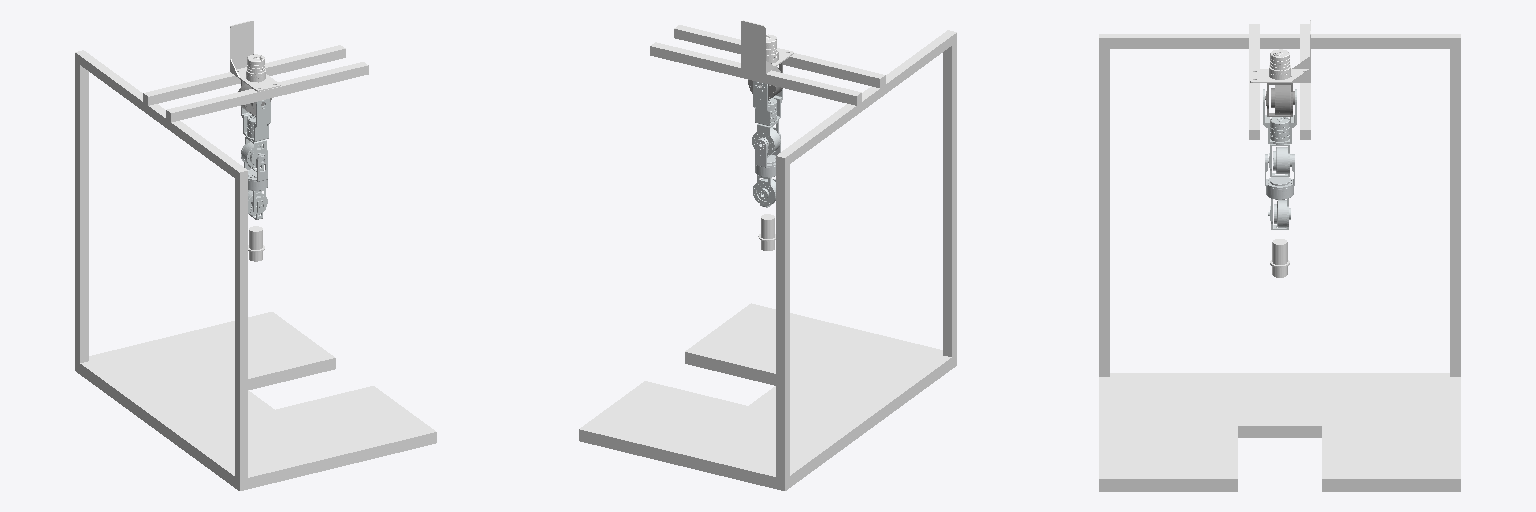
URDF robot description (add_gas_robot_description2):
<?xml version="1.0" encoding="utf-8"?>
<!-- This URDF was automatically created by SolidWorks to URDF Exporter! Originally created by [author] ([email redacted]) 
     Commit Version: 1.5.1-0-g916b5db  Build Version: 1.5.7152.31018
     For more information, please see http://wiki.ros.org/sw_urdf_exporter -->
<robot
  name="add_gas_robot_description2">
  <link
    name="base_link">
    <inertial>
      <origin
        xyz="-0.066598 0.0016808 0.17833"
        rpy="0 0 0" />
      <mass
        value="63.094" />
      <inertia
        ixx="20.408"
        ixy="-1.8514E-07"
        ixz="1.7499"
        iyy="14.797"
        iyz="-0.0042417"
        izz="14.719" />
    </inertial>
    <visual>
      <origin
        xyz="0 0 0"
        rpy="0 0 0" />
      <geometry>
        <mesh
          filename="package://add_gas_robot_description2/meshes/base_link.STL" />
      </geometry>
      <material
        name="">
        <color
          rgba="1 1 1 1" />
      </material>
    </visual>
    <collision>
      <origin
        xyz="0 0 0"
        rpy="0 0 0" />
      <geometry>
        <mesh
          filename="package://add_gas_robot_description2/meshes/base_link.STL" />
      </geometry>
    </collision>
  </link>
  <link
    name="link1">
    <inertial>
      <origin
        xyz="-0.00012557 0.0053091 -0.071768"
        rpy="0 0 0" />
      <mass
        value="0.64188" />
      <inertia
        ixx="0.0017662"
        ixy="4.5469E-07"
        ixz="-3.0475E-06"
        iyy="0.0016005"
        iyz="2.6064E-06"
        izz="0.0010995" />
    </inertial>
    <visual>
      <origin
        xyz="0 0 0"
        rpy="0 0 0" />
      <geometry>
        <mesh
          filename="package://add_gas_robot_description2/meshes/link1.STL" />
      </geometry>
      <material
        name="">
        <color
          rgba="0.6902 0.6902 0.6902 1" />
      </material>
    </visual>
    <collision>
      <origin
        xyz="0 0 0"
        rpy="0 0 0" />
      <geometry>
        <mesh
          filename="package://add_gas_robot_description2/meshes/link1.STL" />
      </geometry>
    </collision>
  </link>
  <joint
    name="joint1"
    type="revolute">
    <origin
      xyz="0 0 1.385"
      rpy="0 0 0" />
    <parent
      link="base_link" />
    <child
      link="link1" />
    <axis
      xyz="0 0 1" />
    <limit
      lower="-2.094"
      upper="2.094"
      effort="0"
      velocity="0" />
  </joint>
  <link
    name="link2">
    <inertial>
      <origin
        xyz="3.0473E-05 0.097541 0.00020543"
        rpy="0 0 0" />
      <mass
        value="0.86164" />
      <inertia
        ixx="0.003276"
        ixy="1.0596E-06"
        ixz="-3.0719E-07"
        iyy="0.0016779"
        iyz="1.646E-05"
        izz="0.0021946" />
    </inertial>
    <visual>
      <origin
        xyz="0 0 0"
        rpy="0 0 0" />
      <geometry>
        <mesh
          filename="package://add_gas_robot_description2/meshes/link2.STL" />
      </geometry>
      <material
        name="">
        <color
          rgba="0.89804 0.92157 0.92941 1" />
      </material>
    </visual>
    <collision>
      <origin
        xyz="0 0 0"
        rpy="0 0 0" />
      <geometry>
        <mesh
          filename="package://add_gas_robot_description2/meshes/link2.STL" />
      </geometry>
    </collision>
  </link>
  <joint
    name="joint2"
    type="revolute">
    <origin
      xyz="0 0 -0.09"
      rpy="-1.5708 0 0" />
    <parent
      link="link1" />
    <child
      link="link2" />
    <axis
      xyz="0 0 1" />
    <limit
      lower="-1.5708"
      upper="1.5708"
      effort="0"
      velocity="0" />
  </joint>
  <link
    name="link3">
    <inertial>
      <origin
        xyz="0.0002201 -0.0066866 0.23442"
        rpy="0 0 0" />
      <mass
        value="0.37756" />
      <inertia
        ixx="0.00074353"
        ixy="6.7209E-07"
        ixz="-1.0397E-06"
        iyy="0.00067747"
        iyz="4.1779E-06"
        izz="0.00041213" />
    </inertial>
    <visual>
      <origin
        xyz="0 0 0"
        rpy="0 0 0" />
      <geometry>
        <mesh
          filename="package://add_gas_robot_description2/meshes/link3.STL" />
      </geometry>
      <material
        name="">
        <color
          rgba="0.89804 0.92157 0.92941 1" />
      </material>
    </visual>
    <collision>
      <origin
        xyz="0 0 0"
        rpy="0 0 0" />
      <geometry>
        <mesh
          filename="package://add_gas_robot_description2/meshes/link3.STL" />
      </geometry>
    </collision>
  </link>
  <joint
    name="joint3"
    type="revolute">
    <origin
      xyz="0 0 0"
      rpy="-1.5708 0 0" />
    <parent
      link="link2" />
    <child
      link="link3" />
    <axis
      xyz="0 0 1" />
    <limit
      lower="-2.094"
      upper="2.094"
      effort="0"
      velocity="0" />
  </joint>
  <link
    name="link4">
    <inertial>
      <origin
        xyz="-0.00021687 0.060002 0.0035112"
        rpy="0 0 0" />
      <mass
        value="0.36887" />
      <inertia
        ixx="0.0010416"
        ixy="6.4702E-07"
        ixz="1.3187E-06"
        iyy="0.00080396"
        iyz="2.4281E-05"
        izz="0.00055378" />
    </inertial>
    <visual>
      <origin
        xyz="0 0 0"
        rpy="0 0 0" />
      <geometry>
        <mesh
          filename="package://add_gas_robot_description2/meshes/link4.STL" />
      </geometry>
      <material
        name="">
        <color
          rgba="0.89804 0.91765 0.92941 1" />
      </material>
    </visual>
    <collision>
      <origin
        xyz="0 0 0"
        rpy="0 0 0" />
      <geometry>
        <mesh
          filename="package://add_gas_robot_description2/meshes/link4.STL" />
      </geometry>
    </collision>
  </link>
  <joint
    name="joint4"
    type="revolute">
    <origin
      xyz="0 0 0.247"
      rpy="1.5708 0 0" />
    <parent
      link="link3" />
    <child
      link="link4" />
    <axis
      xyz="0 0 1" />
    <limit
      lower="-1.5708"
      upper="1.5708"
      effort="0"
      velocity="0" />
  </joint>
  <link
    name="link5">
    <inertial>
      <origin
        xyz="-3.7954E-05 -0.0040059 0.20019"
        rpy="0 0 0" />
      <mass
        value="0.3279" />
      <inertia
        ixx="0.00059271"
        ixy="-4.4959E-07"
        ixz="-8.4267E-07"
        iyy="0.00061057"
        iyz="9.2308E-06"
        izz="0.00027776" />
    </inertial>
    <visual>
      <origin
        xyz="0 0 0"
        rpy="0 0 0" />
      <geometry>
        <mesh
          filename="package://add_gas_robot_description2/meshes/link5.STL" />
      </geometry>
      <material
        name="">
        <color
          rgba="0.89804 0.92157 0.92941 1" />
      </material>
    </visual>
    <collision>
      <origin
        xyz="0 0 0"
        rpy="0 0 0" />
      <geometry>
        <mesh
          filename="package://add_gas_robot_description2/meshes/link5.STL" />
      </geometry>
    </collision>
  </link>
  <joint
    name="joint5"
    type="revolute">
    <origin
      xyz="0 0 0"
      rpy="-1.5708 0 0" />
    <parent
      link="link4" />
    <child
      link="link5" />
    <axis
      xyz="0 0 1" />
    <limit
      lower="-2.094"
      upper="2.094"
      effort="0"
      velocity="0" />
  </joint>
  <link
    name="link6">
    <inertial>
      <origin
        xyz="-3.4285E-06 0.055699 0.003099"
        rpy="0 0 0" />
      <mass
        value="0.15932" />
      <inertia
        ixx="0.00027644"
        ixy="2.2114E-07"
        ixz="-1.2983E-07"
        iyy="0.00022849"
        iyz="5.9163E-07"
        izz="0.00015048" />
    </inertial>
    <visual>
      <origin
        xyz="0 0 0"
        rpy="0 0 0" />
      <geometry>
        <mesh
          filename="package://add_gas_robot_description2/meshes/link6.STL" />
      </geometry>
      <material
        name="">
        <color
          rgba="0.89804 0.91765 0.92941 1" />
      </material>
    </visual>
    <collision>
      <origin
        xyz="0 0 0"
        rpy="0 0 0" />
      <geometry>
        <mesh
          filename="package://add_gas_robot_description2/meshes/link6.STL" />
      </geometry>
    </collision>
  </link>
  <joint
    name="joint6"
    type="revolute">
    <origin
      xyz="0 0 0.2105"
      rpy="1.5708 0 0" />
    <parent
      link="link5" />
    <child
      link="link6" />
    <axis
      xyz="0 0 1" />
    <limit
      lower="-1.5708"
      upper="1.5708"
      effort="0"
      velocity="0" />
  </joint>
  <link
    name="link7">
    <inertial>
      <origin
        xyz="1.401E-17 -2.0592E-17 0.15901"
        rpy="0 0 0" />
      <mass
        value="0.21828" />
      <inertia
        ixx="0.00023315"
        ixy="2.9112E-21"
        ixz="1.3358E-20"
        iyy="0.00023315"
        iyz="-6.9303E-21"
        izz="8.9928E-05" />
    </inertial>
    <visual>
      <origin
        xyz="0 0 0"
        rpy="0 0 0" />
      <geometry>
        <mesh
          filename="package://add_gas_robot_description2/meshes/link7.STL" />
      </geometry>
      <material
        name="">
        <color
          rgba="1 1 1 1" />
      </material>
    </visual>
    <collision>
      <origin
        xyz="0 0 0"
        rpy="0 0 0" />
      <geometry>
        <mesh
          filename="package://add_gas_robot_description2/meshes/link7.STL" />
      </geometry>
    </collision>
  </link>
  <joint
    name="joint7"
    type="revolute">
    <origin
      xyz="0 0 0"
      rpy="-1.5708 0 0" />
    <parent
      link="link6" />
    <child
      link="link7" />
    <axis
      xyz="0 0 1" />
    <limit
      lower="-3.1416"
      upper="3.1416"
      effort="0"
      velocity="0" />
  </joint>
</robot>

--- What the picture shows (computed from the rendered views, not written in the file) ---
Views: 3 orthographic renders of the robot side by side, from view 1: azimuth 30°, elevation 25°; view 2: azimuth 150°, elevation 25°; view 3: azimuth 270°, elevation 25°.
Robot: add_gas_robot_description2 — 8 links, 7 joints (7 revolute); root link base_link; default pose: every joint at zero.
Visible links, largest first — view 1: base_link, link2, link4, link3; view 2: base_link, link2, link4, link5, link3; view 3: base_link, link2, link1, link4, link3, link7, link5.
Boxes of the visible links, left/top/right/bottom form: base_link: left=75, top=21, right=436, bottom=490; link2: left=241, top=99, right=270, bottom=141; link4: left=244, top=154, right=267, bottom=190; link3: left=241, top=137, right=267, bottom=171; base_link: left=579, top=20, right=956, bottom=490; link2: left=753, top=81, right=782, bottom=125; link4: left=755, top=132, right=780, bottom=176; link5: left=753, top=175, right=775, bottom=207; link3: left=752, top=121, right=780, bottom=157; base_link: left=1099, top=20, right=1460, bottom=491; link2: left=1263, top=89, right=1296, bottom=144; link1: left=1265, top=83, right=1294, bottom=116; link4: left=1265, top=154, right=1294, bottom=199; link3: left=1268, top=144, right=1291, bottom=176; link7: left=1270, top=239, right=1289, bottom=277; link5: left=1268, top=199, right=1290, bottom=229.
Size in the robot's own frame: 0.9 by 1.3 by 1.63 metres.
Meshes: 8 distinct files referenced, 7 mesh visuals loaded (7 binary STL); not drawn: 1 (reference not matched to a file when rendering).